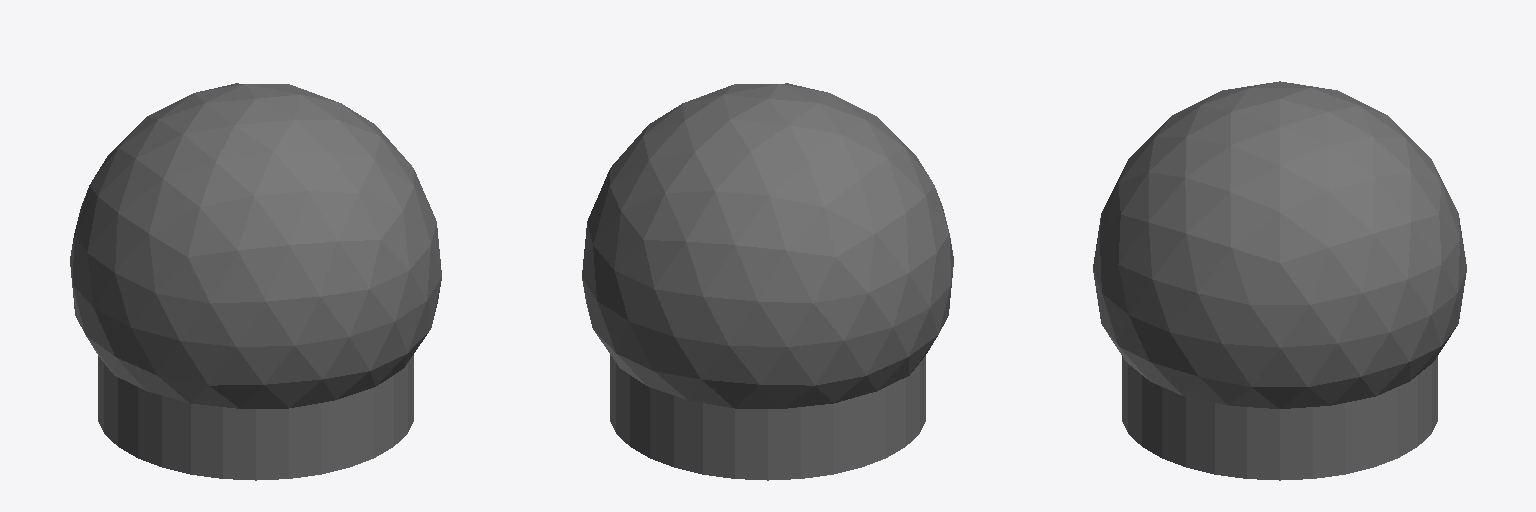
File: dome.obj
The picture shows the model from 3 angles: view 1: azimuth 30°, elevation 25°; view 2: azimuth 150°, elevation 25°; view 3: azimuth 270°, elevation 25°; orthographic projection.
Bounding box in the file's own units: 126 × 117 × 126.